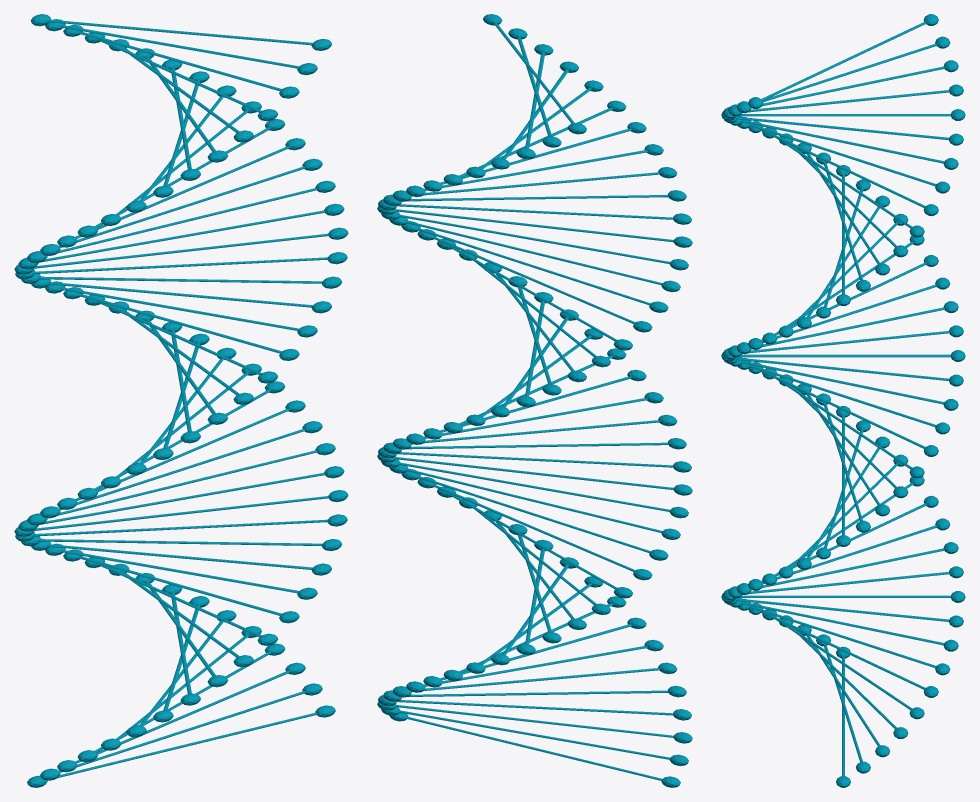
Rendered from dna.glb.
3 renders of one model, left to right at view 1: azimuth 30°, elevation 25°; view 2: azimuth 150°, elevation 25°; view 3: azimuth 270°, elevation 25°, orthographic. The views are drawn at different scales.
Visible parts, largest first — view 1: Mesh_Mesh_head_geo.001_lambert2SG.001; view 2: Mesh_Mesh_head_geo.001_lambert2SG.001; view 3: Mesh_Mesh_head_geo.001_lambert2SG.001.
Part boxes in pixels (box(x1,y1,x2,y2)): Mesh_Mesh_head_geo.001_lambert2SG.001: box(14, 14, 348, 787); Mesh_Mesh_head_geo.001_lambert2SG.001: box(377, 14, 692, 787); Mesh_Mesh_head_geo.001_lambert2SG.001: box(721, 14, 965, 787).
Bounding box in the file's own units: 20 × 45 × 15.
